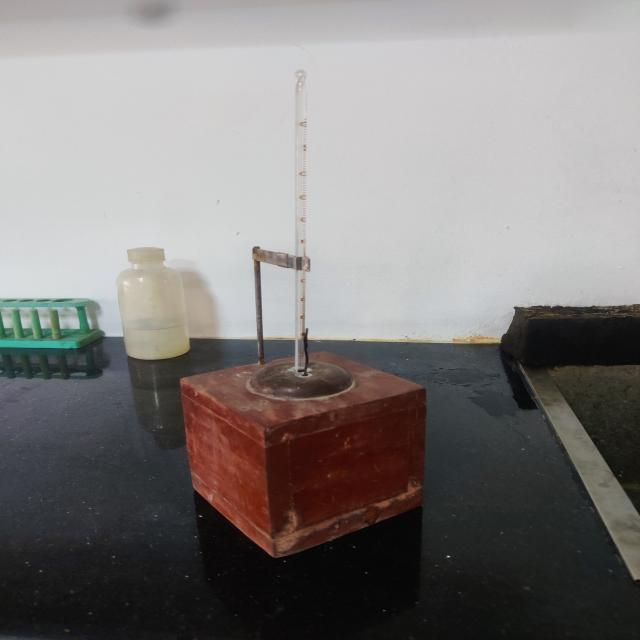Calorimeter: (160, 53, 456, 574)
